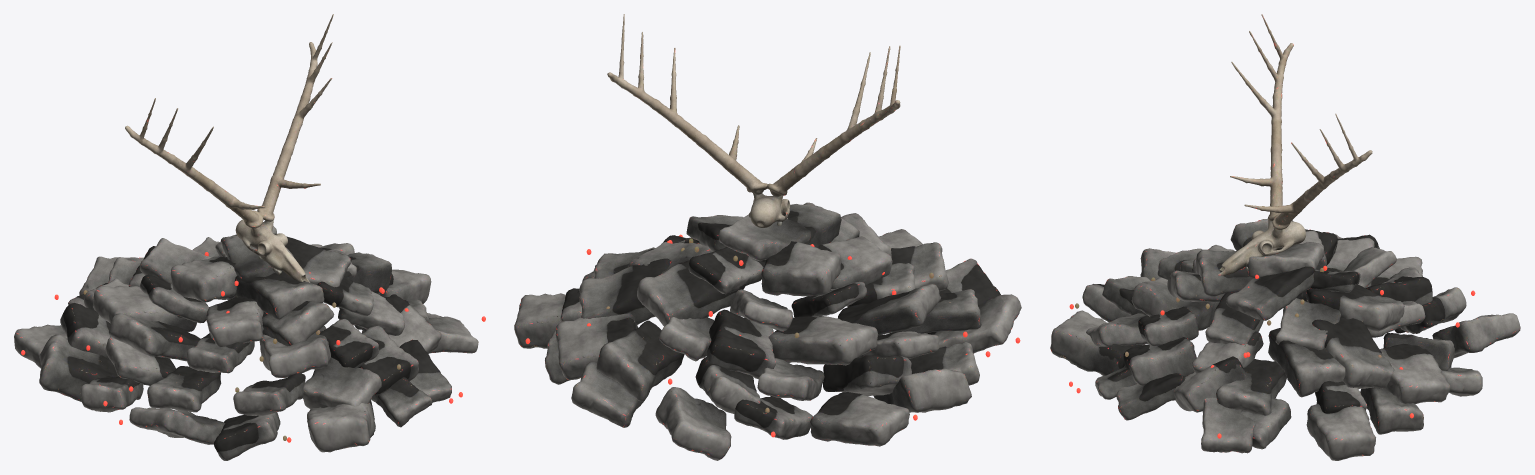
The model's file is stone_cairn.glb.
3 views of the same model, side by side, from view 1: azimuth 30°, elevation 25°; view 2: azimuth 150°, elevation 25°; view 3: azimuth 270°, elevation 25° (orthographic). The views are drawn at different scales.
Parts seen in each view (by area): view 1: Cairn_Elk_Antlers, Cairn_Stone_07, Cairn_Stone_24, Cairn_Stone_11, Cairn_Stone_32, Cairn_Stone_47, Cairn_Stone_22, Cairn_Stone_46, Cairn_Stone_41, Cairn_Stone_31, Cairn_Stone_34, Cairn_Stone_09 (+26 smaller); view 2: Cairn_Elk_Antlers, Cairn_Stone_31, Cairn_Stone_06, Cairn_Stone_17, Cairn_Stone_38, Cairn_Stone_04, Cairn_Stone_46, Cairn_Stone_30, Cairn_Stone_28, Cairn_Stone_16, Cairn_Stone_32, Cairn_Stone_07 (+29 smaller); view 3: Cairn_Elk_Antlers, Cairn_Stone_28, Cairn_Stone_16, Cairn_Stone_01, Cairn_Stone_11, Cairn_Stone_48, Cairn_Stone_37, Cairn_Stone_27, Cairn_Stone_38, Cairn_Stone_25, Cairn_Stone_14, Cairn_Stone_04 (+31 smaller).
Boxes of the visible parts, x1,y1,x2,y2 form: Cairn_Elk_Antlers: (125,14,333,228); Cairn_Stone_07: (39,334,118,412); Cairn_Stone_24: (303,357,381,408); Cairn_Stone_11: (307,400,375,452); Cairn_Stone_32: (108,313,200,361); Cairn_Stone_47: (235,271,324,319); Cairn_Stone_22: (147,366,221,412); Cairn_Stone_46: (170,256,236,302); Cairn_Stone_41: (206,297,263,347); Cairn_Stone_31: (93,286,196,331); Cairn_Stone_34: (259,326,330,377); Cairn_Stone_09: (129,407,225,444); Cairn_Elk_Antlers: (607,14,900,196); Cairn_Stone_31: (768,316,878,365); Cairn_Stone_06: (810,392,909,446); Cairn_Stone_17: (596,320,684,401); Cairn_Stone_38: (637,260,745,326); Cairn_Stone_04: (655,387,731,460); Cairn_Stone_46: (761,241,841,296); Cairn_Stone_30: (706,309,775,378); Cairn_Stone_28: (579,258,671,324); Cairn_Stone_16: (555,313,638,380); Cairn_Stone_32: (838,284,940,335); Cairn_Stone_07: (873,368,971,412); Cairn_Elk_Antlers: (1230,14,1372,229); Cairn_Stone_28: (1312,317,1394,388); Cairn_Stone_16: (1379,343,1450,403); Cairn_Stone_01: (1306,403,1375,460); Cairn_Stone_11: (1050,310,1145,375); Cairn_Stone_48: (1226,266,1314,320); Cairn_Stone_37: (1268,328,1345,397); Cairn_Stone_27: (1216,359,1286,415); Cairn_Stone_38: (1309,284,1404,331); Cairn_Stone_25: (1123,337,1196,385); Cairn_Stone_14: (1201,397,1254,453); Cairn_Stone_04: (1432,313,1520,358).
Size of the model in its own units: 2.52 by 1.93 by 2.61.
1 material, 1 textured.
